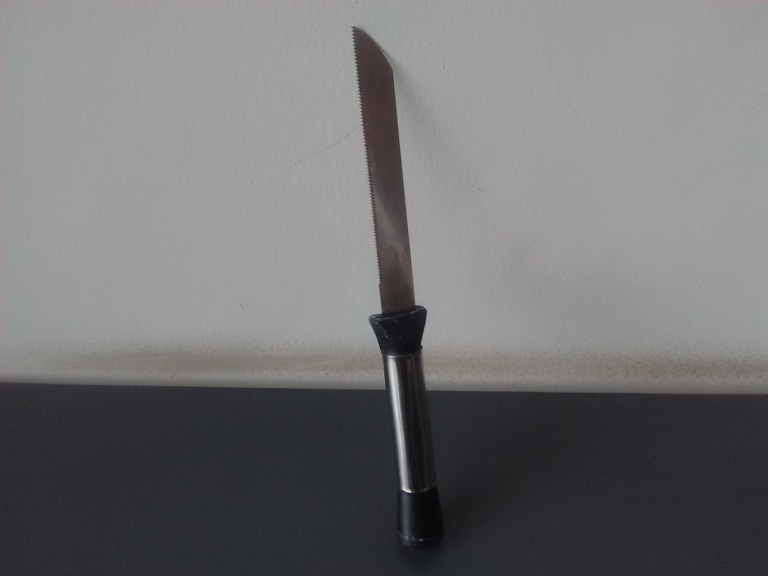knife: (348, 22, 448, 550)
